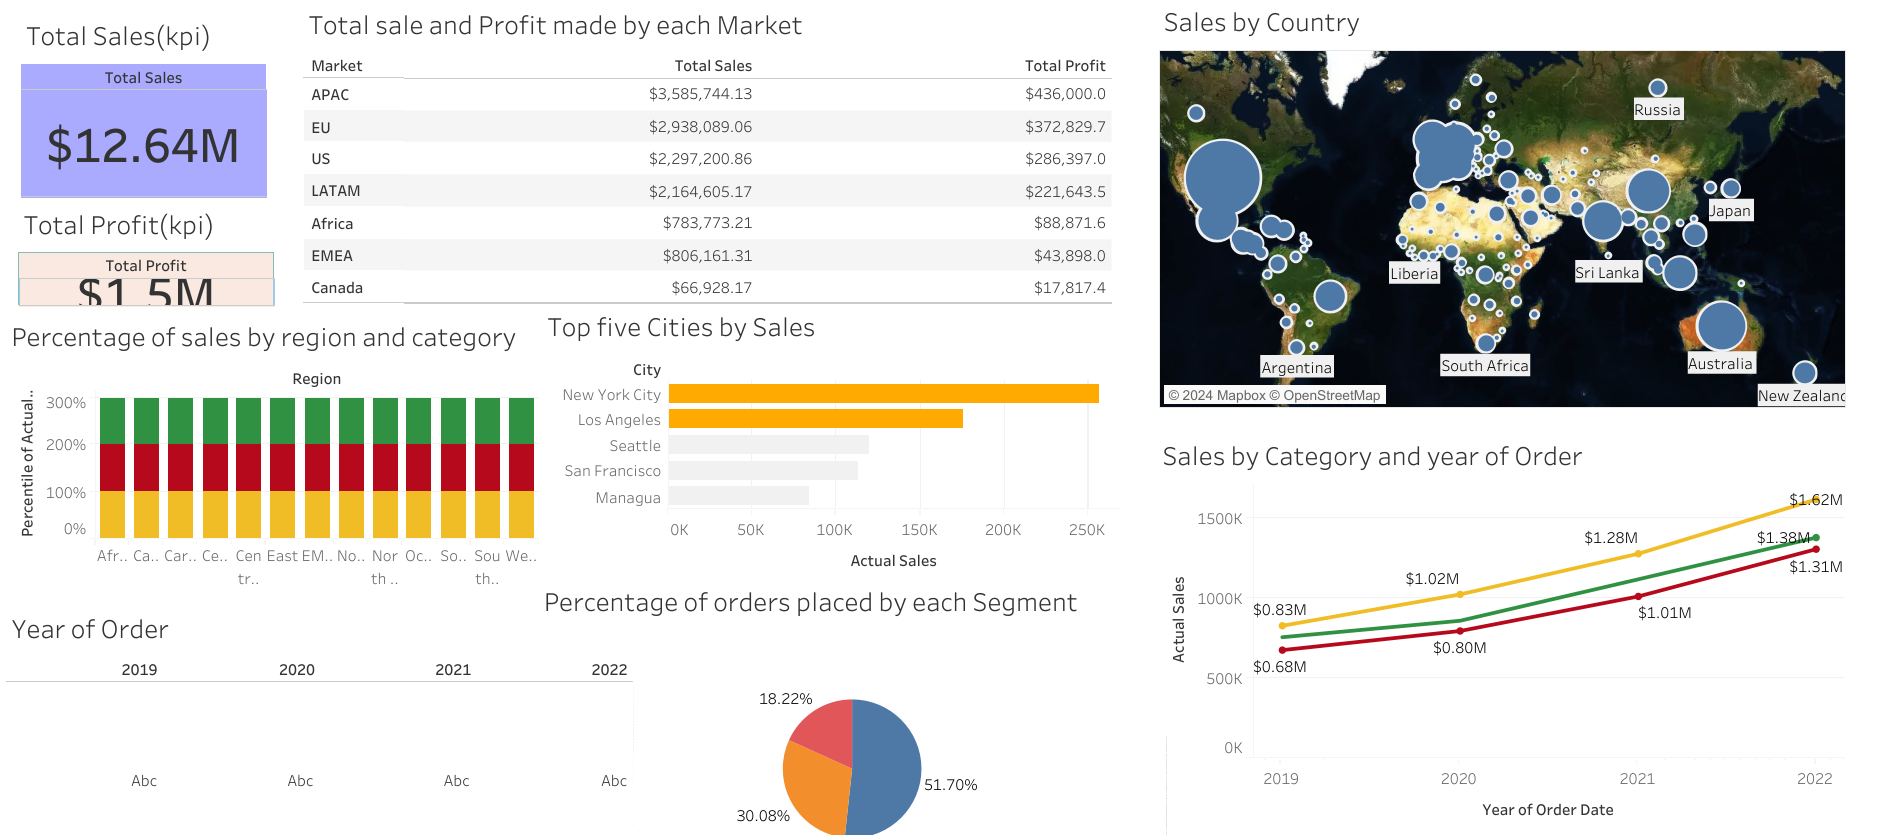

Layout of this report page (visuals, bound fields, positions):
{"tool":"tableau","page":{"name":"Dashboard 1","canvas":[1000,1000],"units":"permille","ordinal":0},"visuals":[{"type":"image","param":"Image/US Superstore.jpg","box":[4.8,8.2,990.3,983.5]}]}

Visuals, with their boxes on the dashboard's canvas, which has no fixed pixel size, in thousandths of its width and height (x1, y1, x2, y2). These are canvas units, not pixel positions in the 1880x835 screenshot, which may show the page scaled, cropped or inside an application window:
image: <box>5,8,995,992</box>
